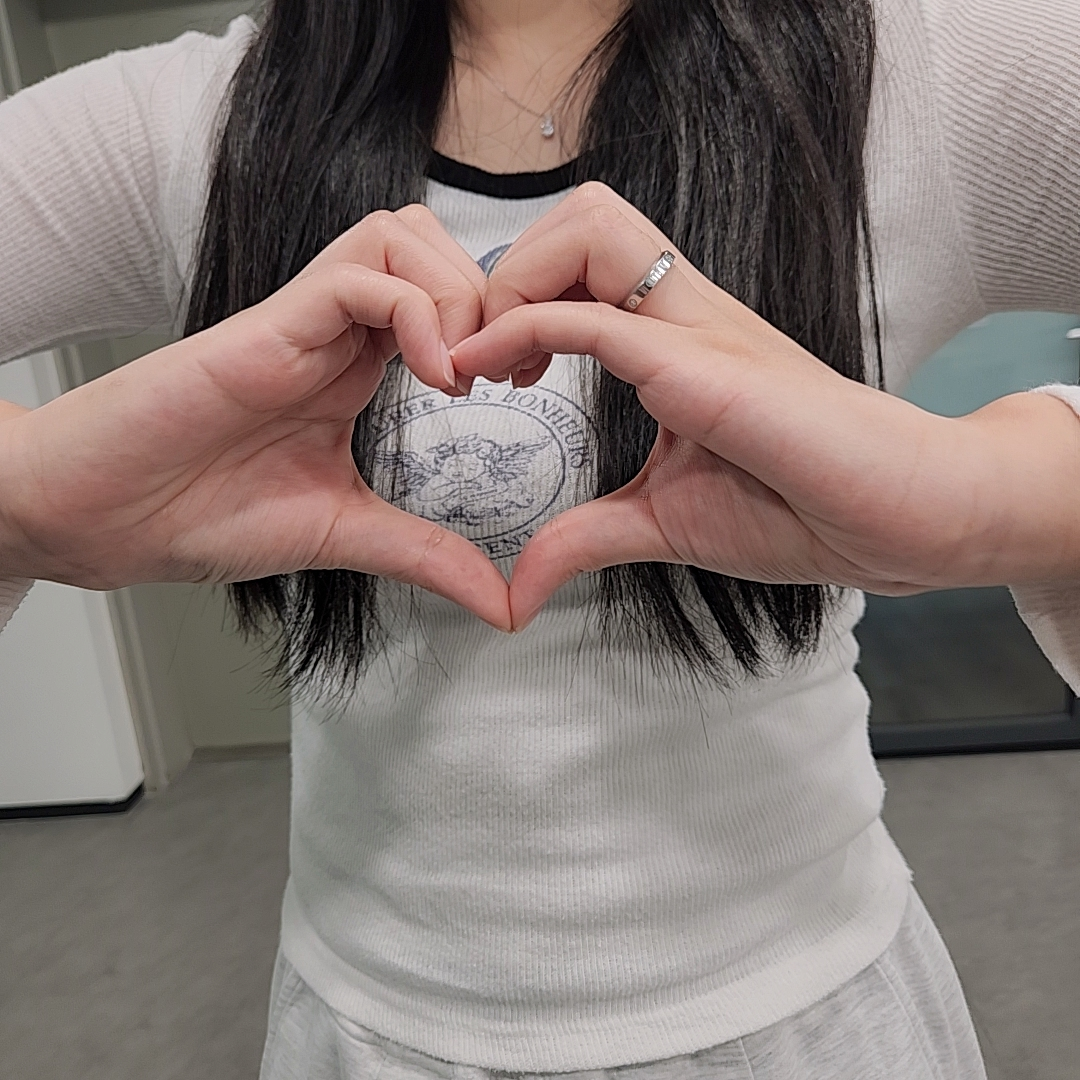heart: (49, 180, 958, 634)
